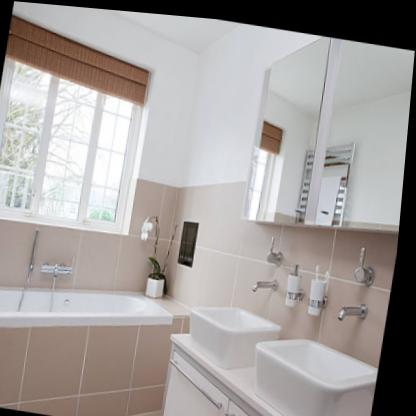Window: (0, 14, 155, 233)
